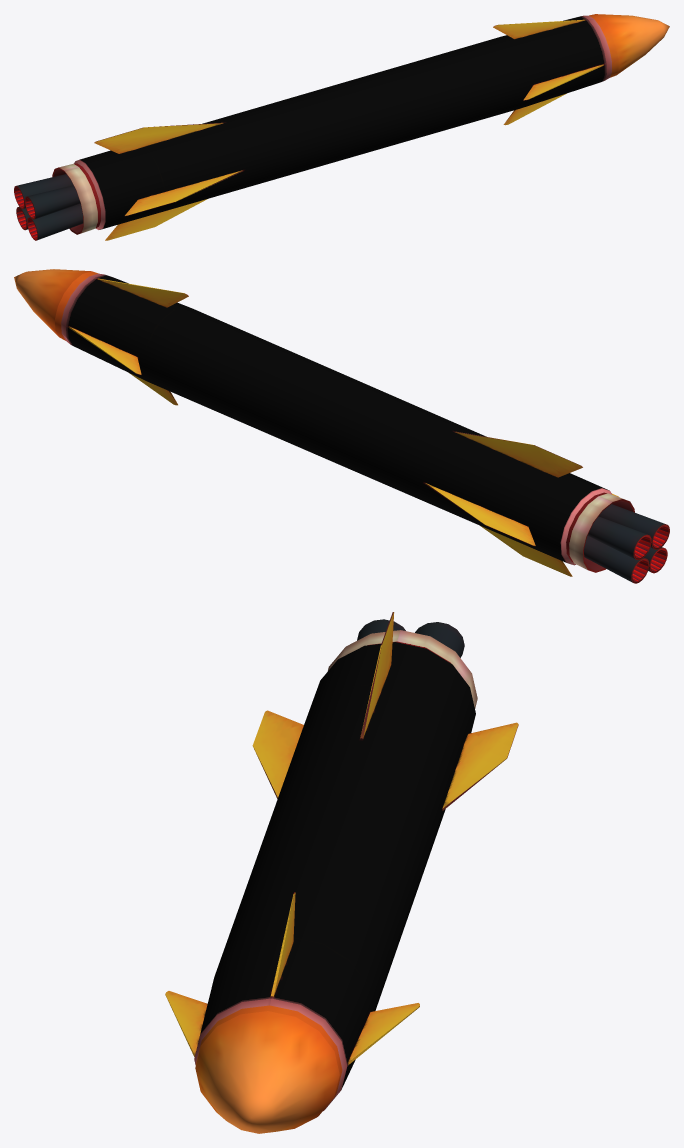
Rendered from Missile.glb.
3 renders of one model, top to bottom at view 1: azimuth 30°, elevation 25°; view 2: azimuth 150°, elevation 25°; view 3: azimuth 270°, elevation 25°, orthographic. The views are drawn at different scales.
Visible parts, largest first — view 1: node_id355; view 2: node_id355; view 3: node_id355.
Boxes of the visible parts, x1,y1,x2,y2 form: node_id355: (14, 14, 669, 240); node_id355: (14, 269, 669, 583); node_id355: (165, 612, 518, 1133).
Size of the model in its own units: 0.5662 by 0.1281 by 0.1425.
1 material, 1 textured.
